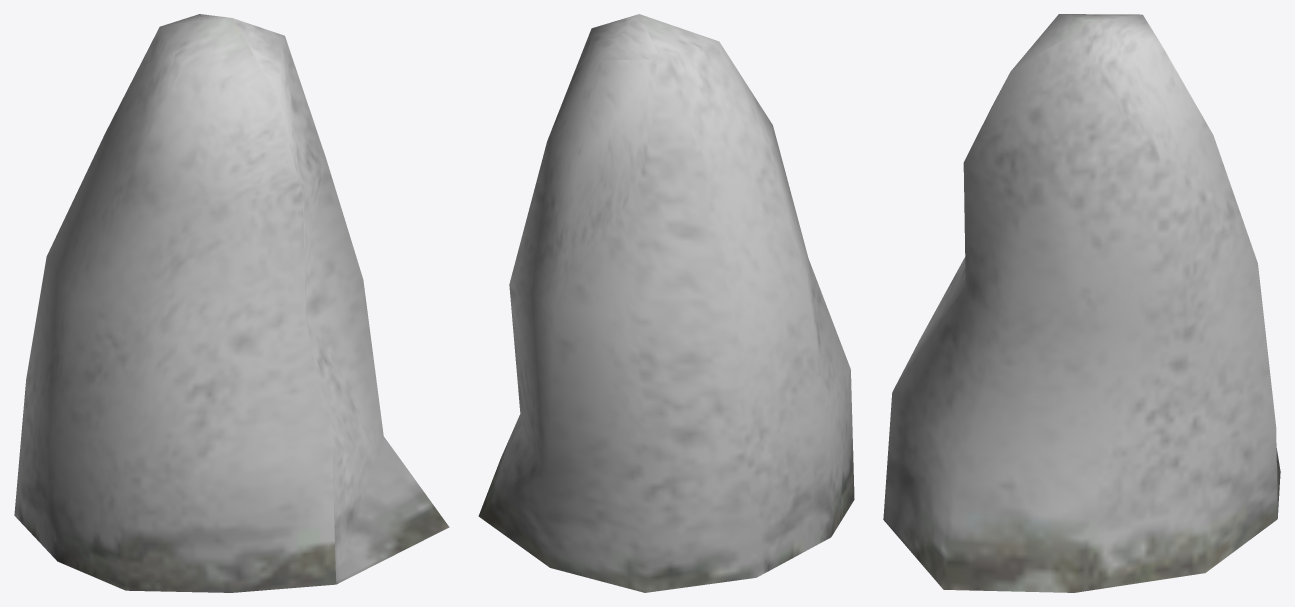
File: general_obj_stone01.fbx
3 renders of one model, left to right at view 1: azimuth 30°, elevation 25°; view 2: azimuth 150°, elevation 25°; view 3: azimuth 270°, elevation 25°, orthographic. The views are drawn at different scales.
Parts seen in each view (by area): view 1: Sphere01; view 2: Sphere01; view 3: Sphere01.
Part boxes in pixels (<box>): Sphere01: <box>14,14,449,592</box>; Sphere01: <box>478,14,854,592</box>; Sphere01: <box>883,14,1280,592</box>.
Size of the model in its own units: 2.32 by 3.28 by 2.37.
